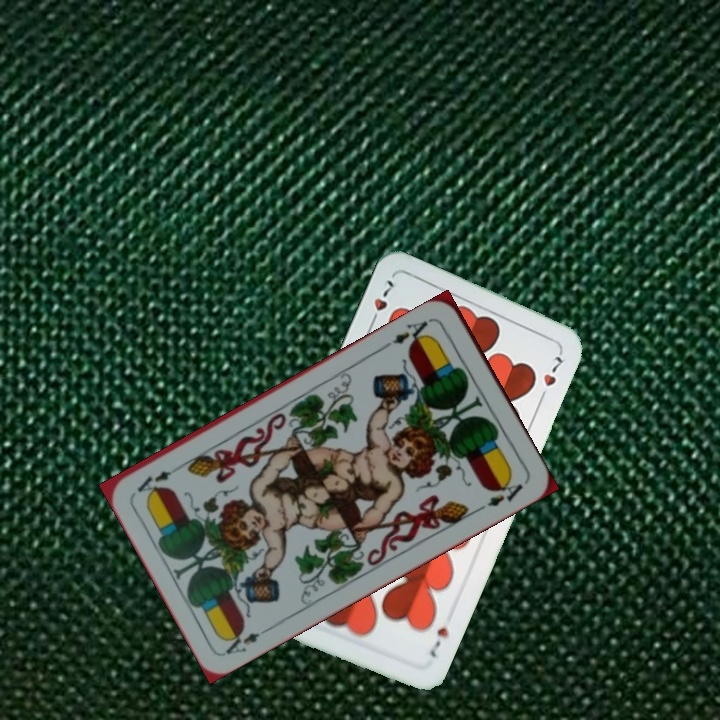EA: (381, 314, 435, 350), (220, 622, 274, 657)
H7: (365, 275, 397, 330), (426, 622, 452, 661)
